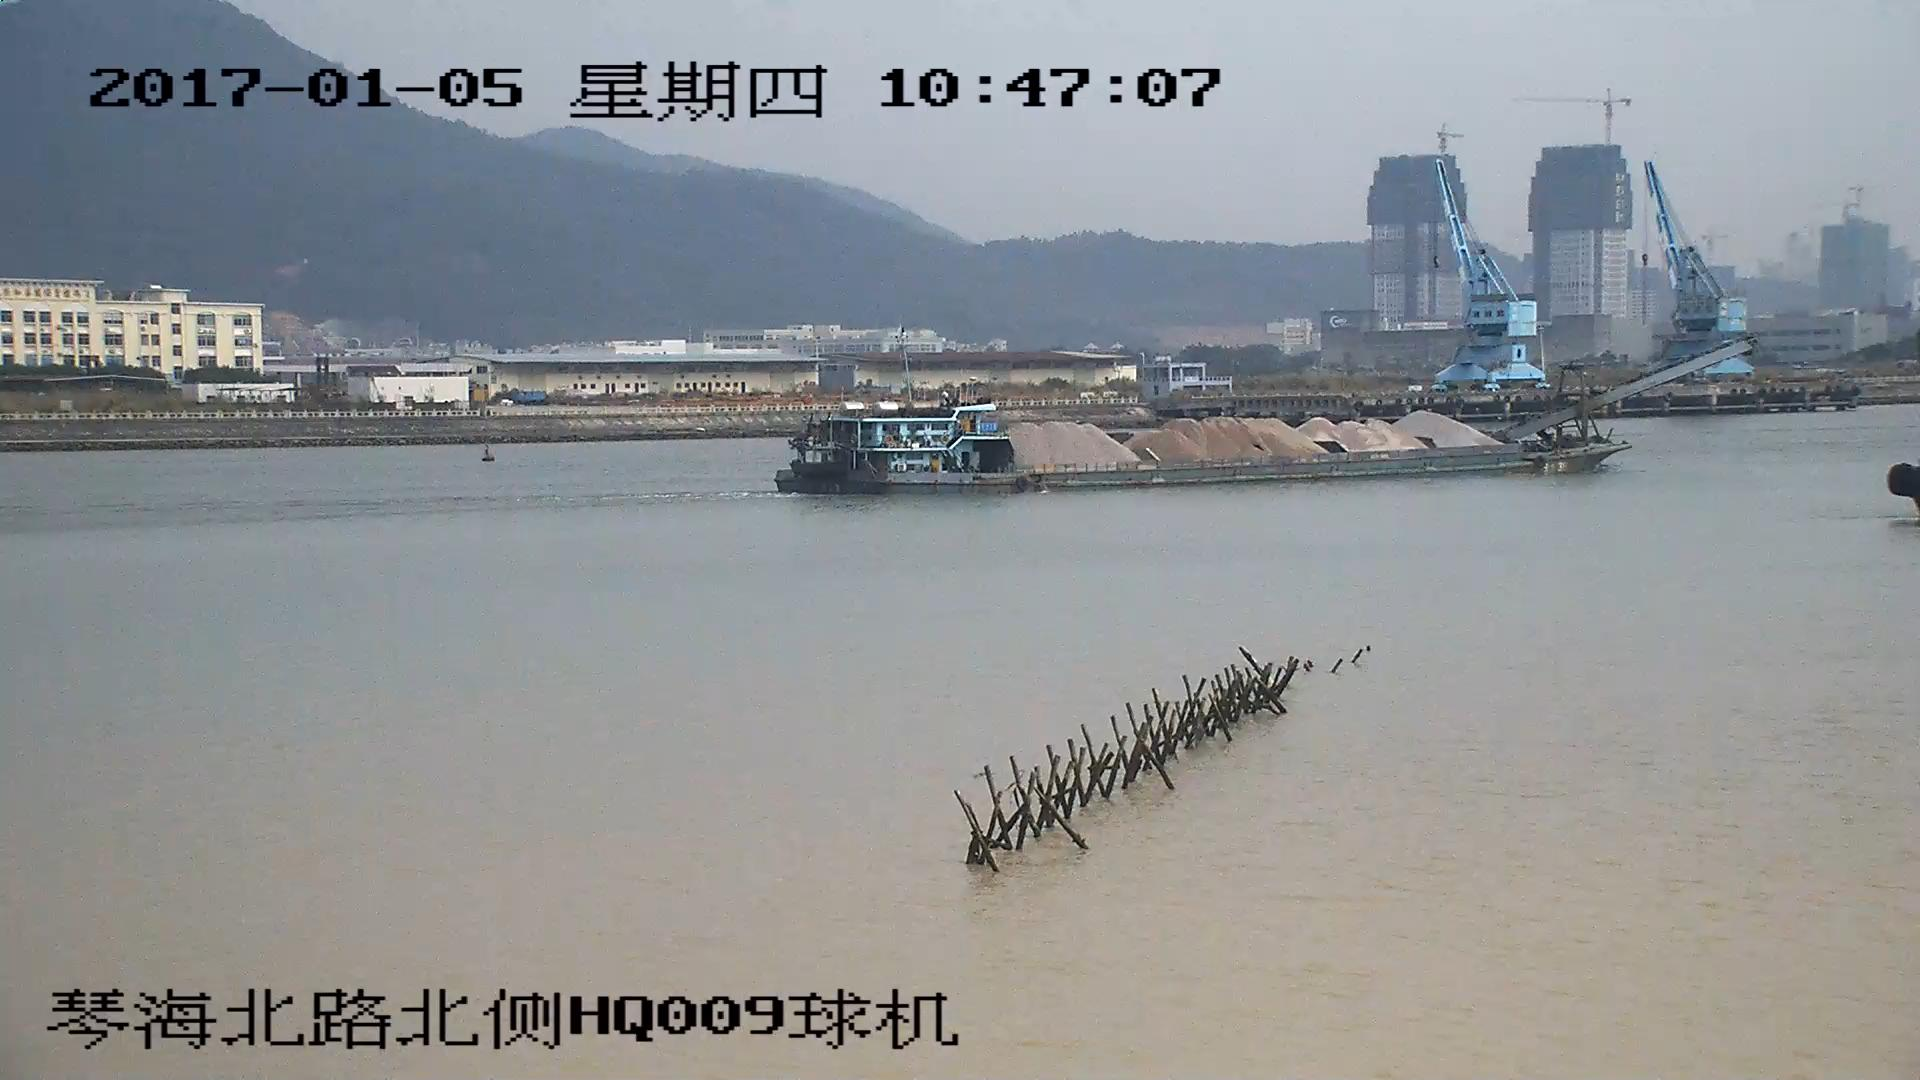ore carrier: (775, 343, 1745, 497)
